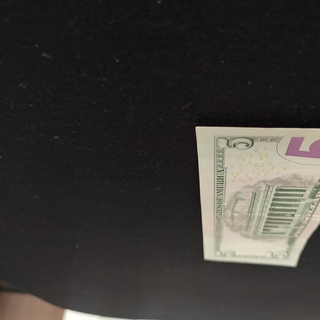5USDBack: (194, 125, 320, 267)
